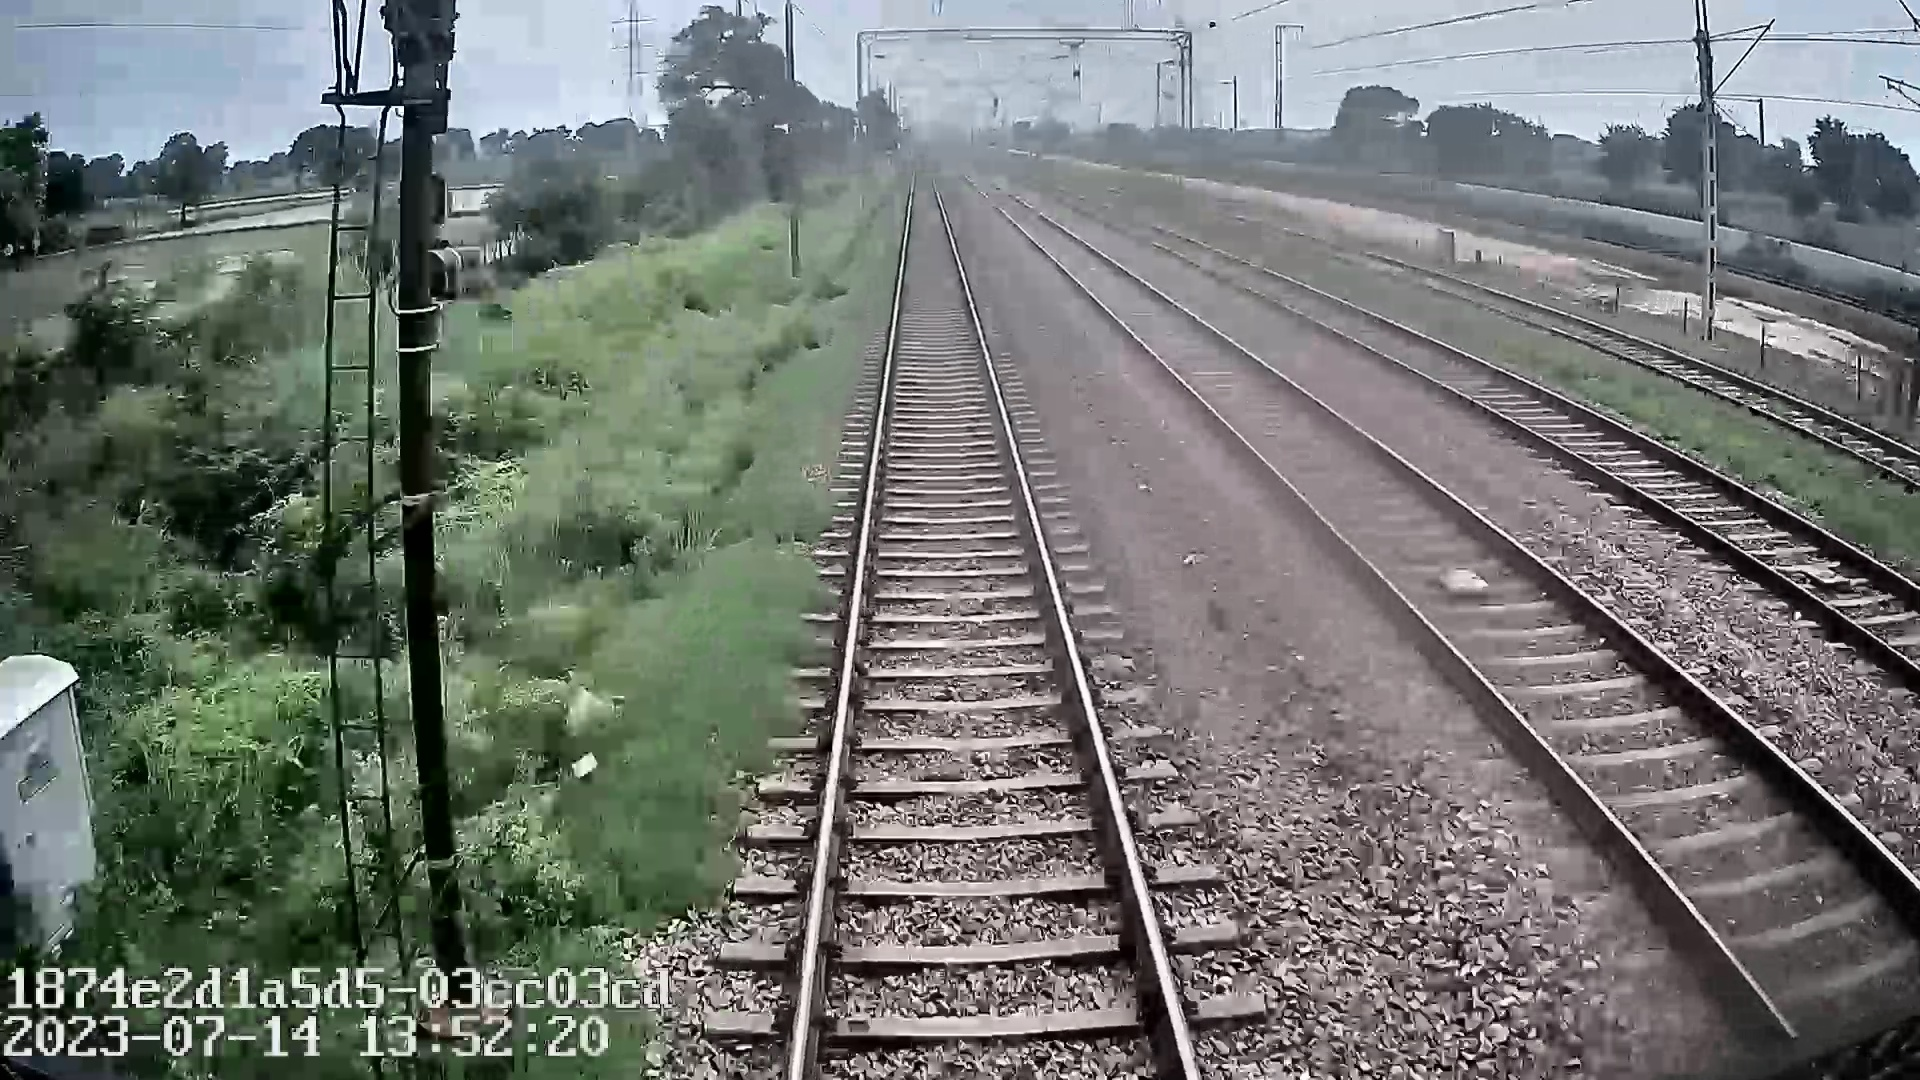track1: (799, 176, 1192, 1065)
track2: (989, 196, 1914, 1000)
track3: (1137, 225, 1916, 655)
track4: (1457, 285, 1913, 480)
